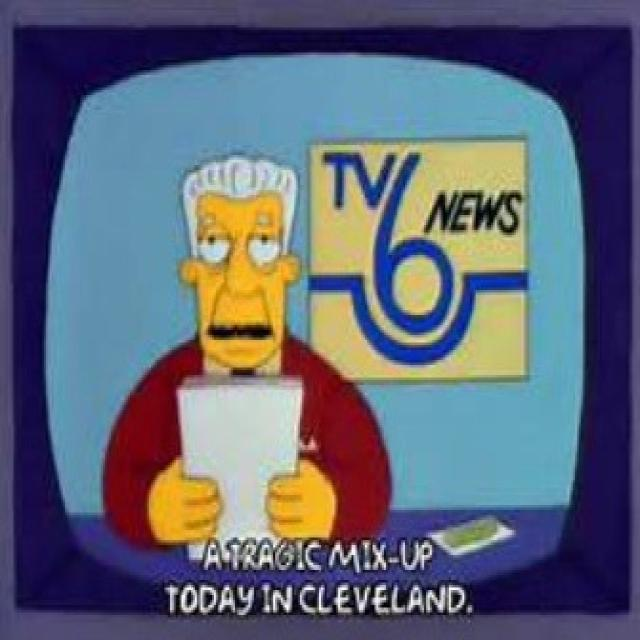Kent Brockman: (178, 154, 300, 376)
